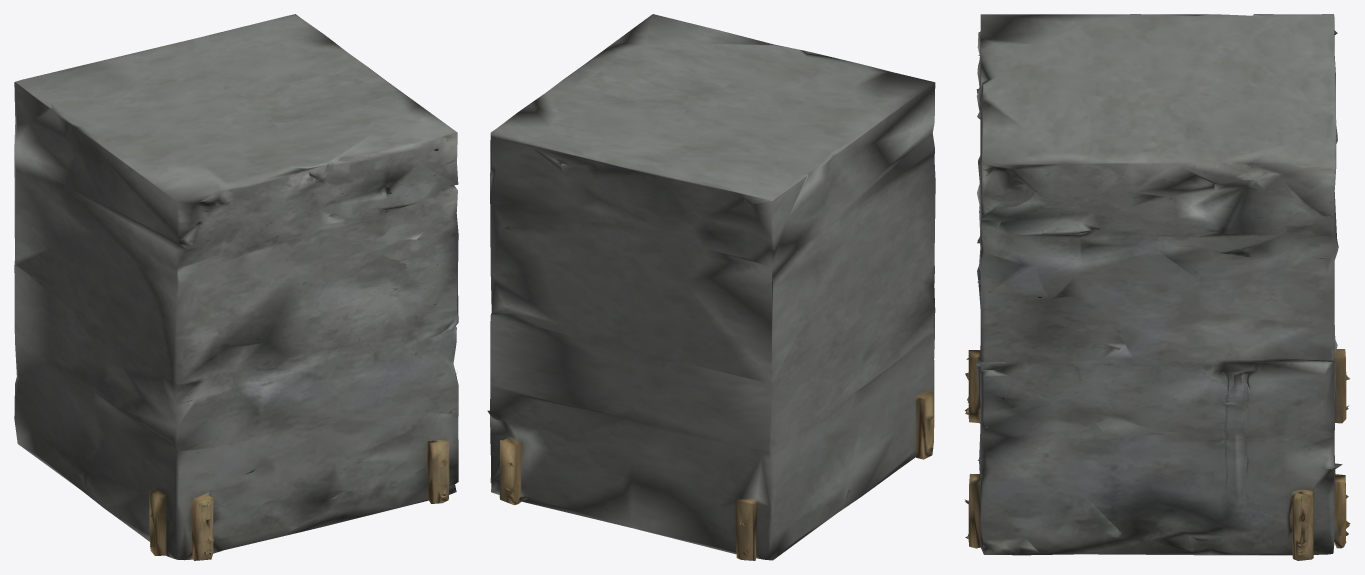
Rendered from level1-pillar.glb.
3 views of the same model, side by side, from view 1: azimuth 30°, elevation 25°; view 2: azimuth 150°, elevation 25°; view 3: azimuth 270°, elevation 25° (orthographic). The views are drawn at different scales.
Parts seen in each view (by area): view 1: tripo_node_49362b2d-8914-4f47-a19c-40f380be7ca5; view 2: tripo_node_49362b2d-8914-4f47-a19c-40f380be7ca5; view 3: tripo_node_49362b2d-8914-4f47-a19c-40f380be7ca5.
Part boxes in pixels (<box>): tripo_node_49362b2d-8914-4f47-a19c-40f380be7ca5: <box>14,14,458,560</box>; tripo_node_49362b2d-8914-4f47-a19c-40f380be7ca5: <box>487,14,935,560</box>; tripo_node_49362b2d-8914-4f47-a19c-40f380be7ca5: <box>965,14,1350,560</box>.
Bounding box in the file's own units: 4 × 4.5 × 4.
1 material, 1 textured.
